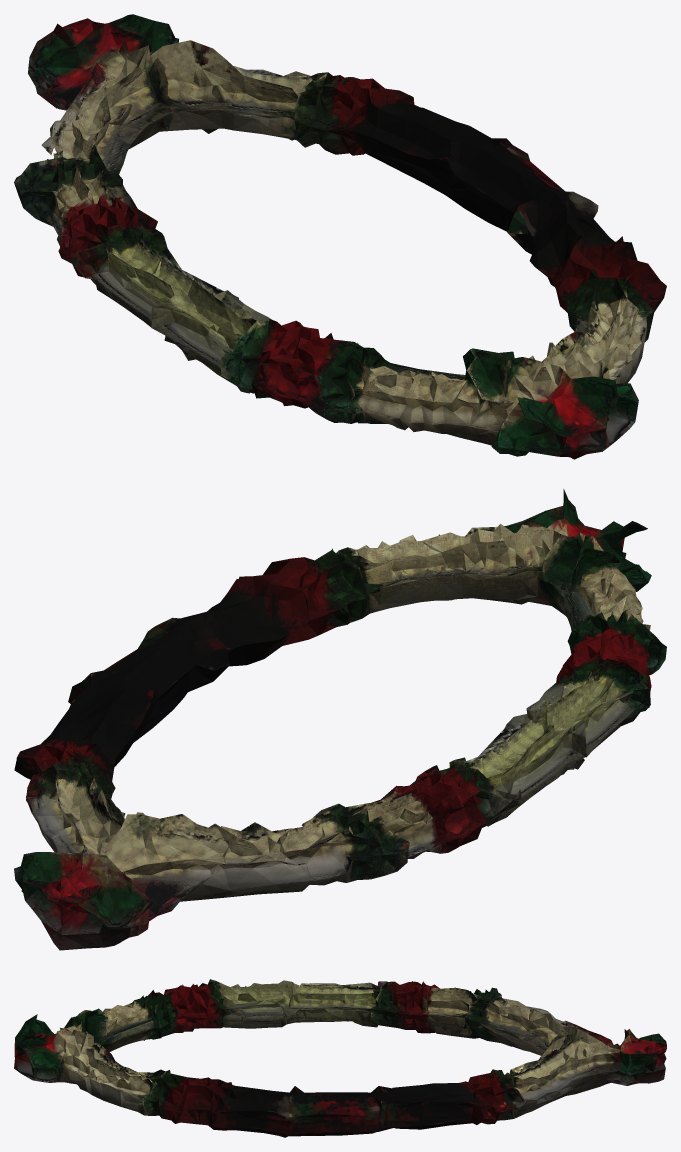
File: poomalai.glb
3 views of the same model, one above another, from view 1: azimuth 30°, elevation 25°; view 2: azimuth 150°, elevation 25°; view 3: azimuth 270°, elevation 25° (orthographic). The views are drawn at different scales.
Visible parts, largest first — view 1: world; view 2: world; view 3: world.
Boxes of the visible parts, <box> form: world: <box>14,14,666,459</box>; world: <box>14,489,666,950</box>; world: <box>14,979,666,1137</box>.
Size of the model in its own units: 0.4958 by 0.097 by 1.
Materials: 1 (1 with a texture image).
